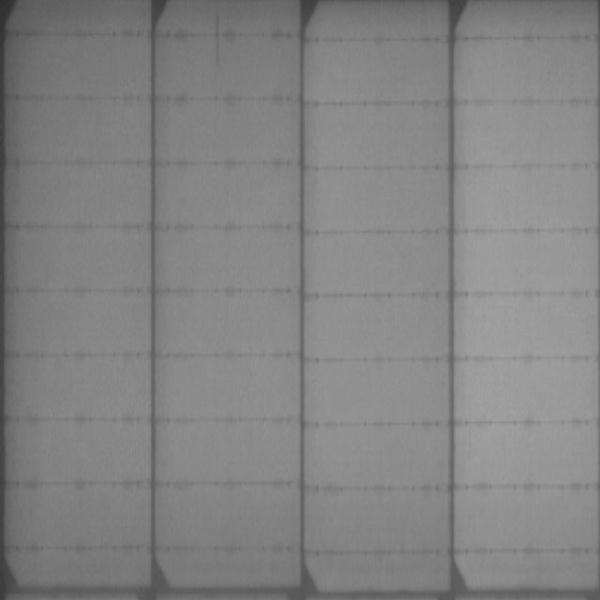scratch: (211, 16, 222, 66)
